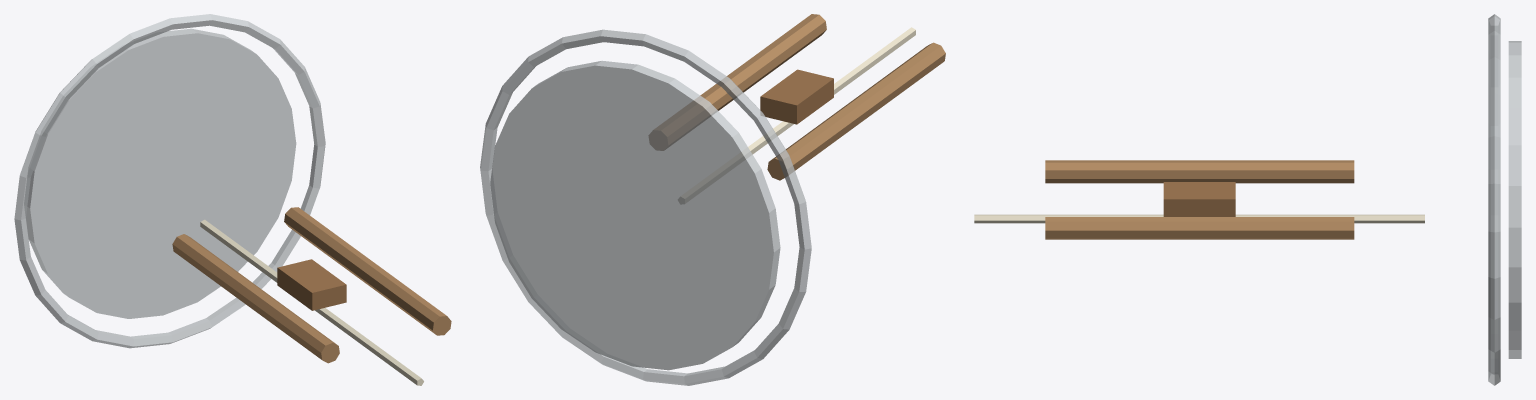
File: weapon_pickup_short_bow_common.glb
3 views of the same model, side by side, from view 1: azimuth 30°, elevation 25°; view 2: azimuth 150°, elevation 25°; view 3: azimuth 270°, elevation 25° (orthographic). The views are drawn at different scales.
Visible parts, largest first — view 1: rarity_base_disc, rarity_orbit_ring, bow_lower, bow_upper, grip, string; view 2: rarity_base_disc, rarity_orbit_ring, bow_lower, bow_upper, grip, string; view 3: bow_upper, bow_lower, rarity_orbit_ring, rarity_base_disc, grip, string.
Boxes of the visible parts, bbox=[...] form: rarity_base_disc: bbox=[24, 28, 296, 318]; rarity_orbit_ring: bbox=[14, 14, 325, 348]; bow_lower: bbox=[284, 207, 451, 335]; bow_upper: bbox=[172, 234, 339, 363]; grip: bbox=[277, 259, 346, 310]; string: bbox=[200, 219, 423, 385]; rarity_base_disc: bbox=[490, 60, 780, 370]; rarity_orbit_ring: bbox=[480, 29, 811, 385]; bow_lower: bbox=[649, 14, 826, 150]; bow_upper: bbox=[767, 42, 945, 180]; grip: bbox=[760, 69, 833, 124]; string: bbox=[678, 27, 915, 203]; bow_upper: bbox=[1045, 160, 1354, 183]; bow_lower: bbox=[1045, 217, 1354, 239]; rarity_orbit_ring: bbox=[1488, 14, 1500, 385]; rarity_base_disc: bbox=[1508, 41, 1521, 358]; grip: bbox=[1163, 182, 1235, 216]; string: bbox=[974, 214, 1424, 223].
Size of the model in its own units: 1.45 by 1.45 by 2.12.
